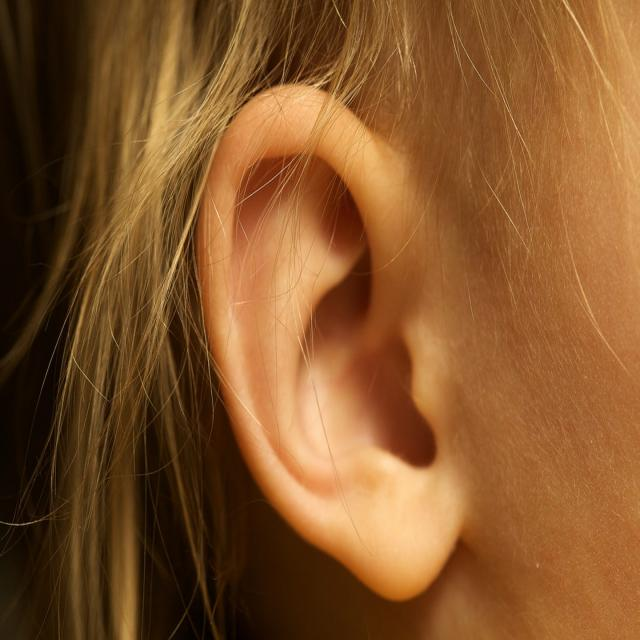earlobe: (366, 451, 456, 605)
wholeear: (194, 82, 456, 605)
